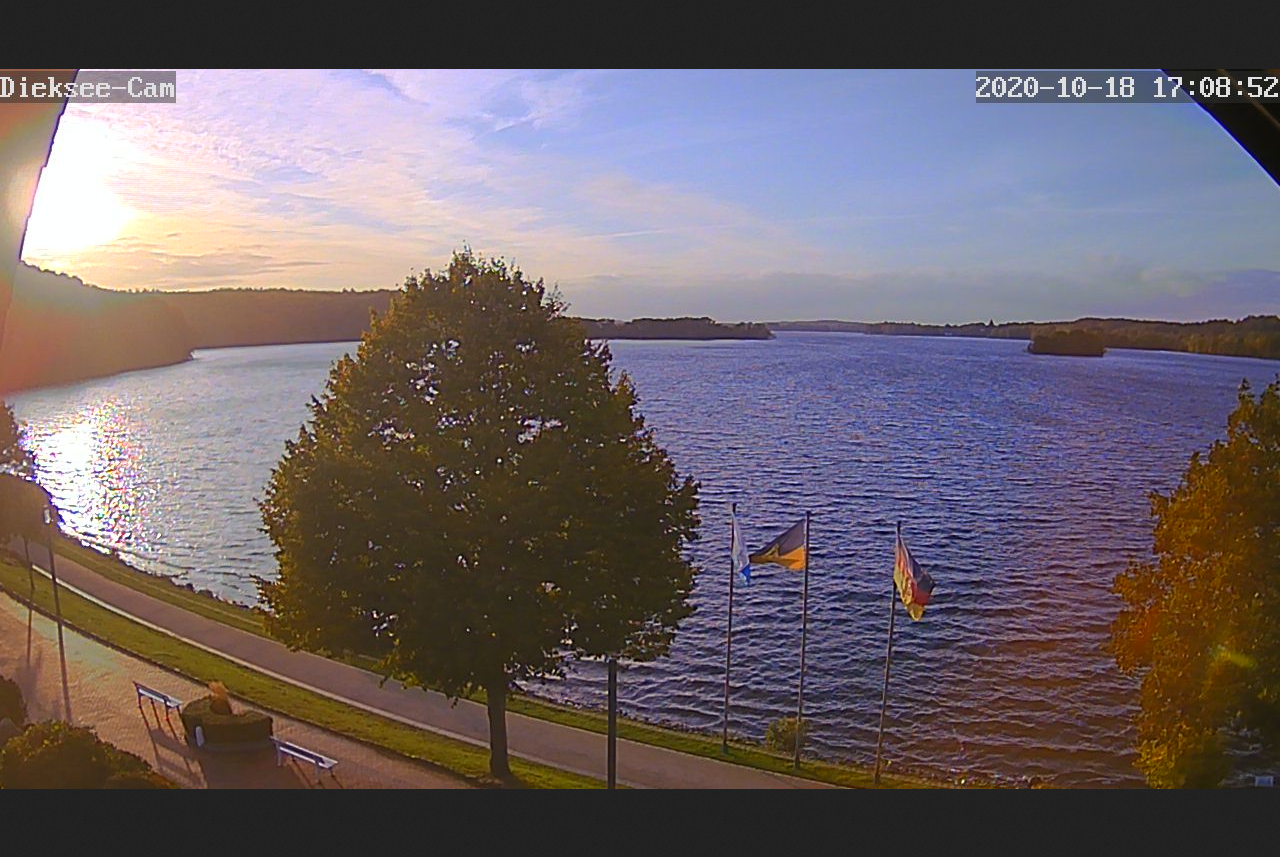maybe: (738, 504, 815, 584), (888, 518, 938, 625)
no: (725, 497, 762, 592)
